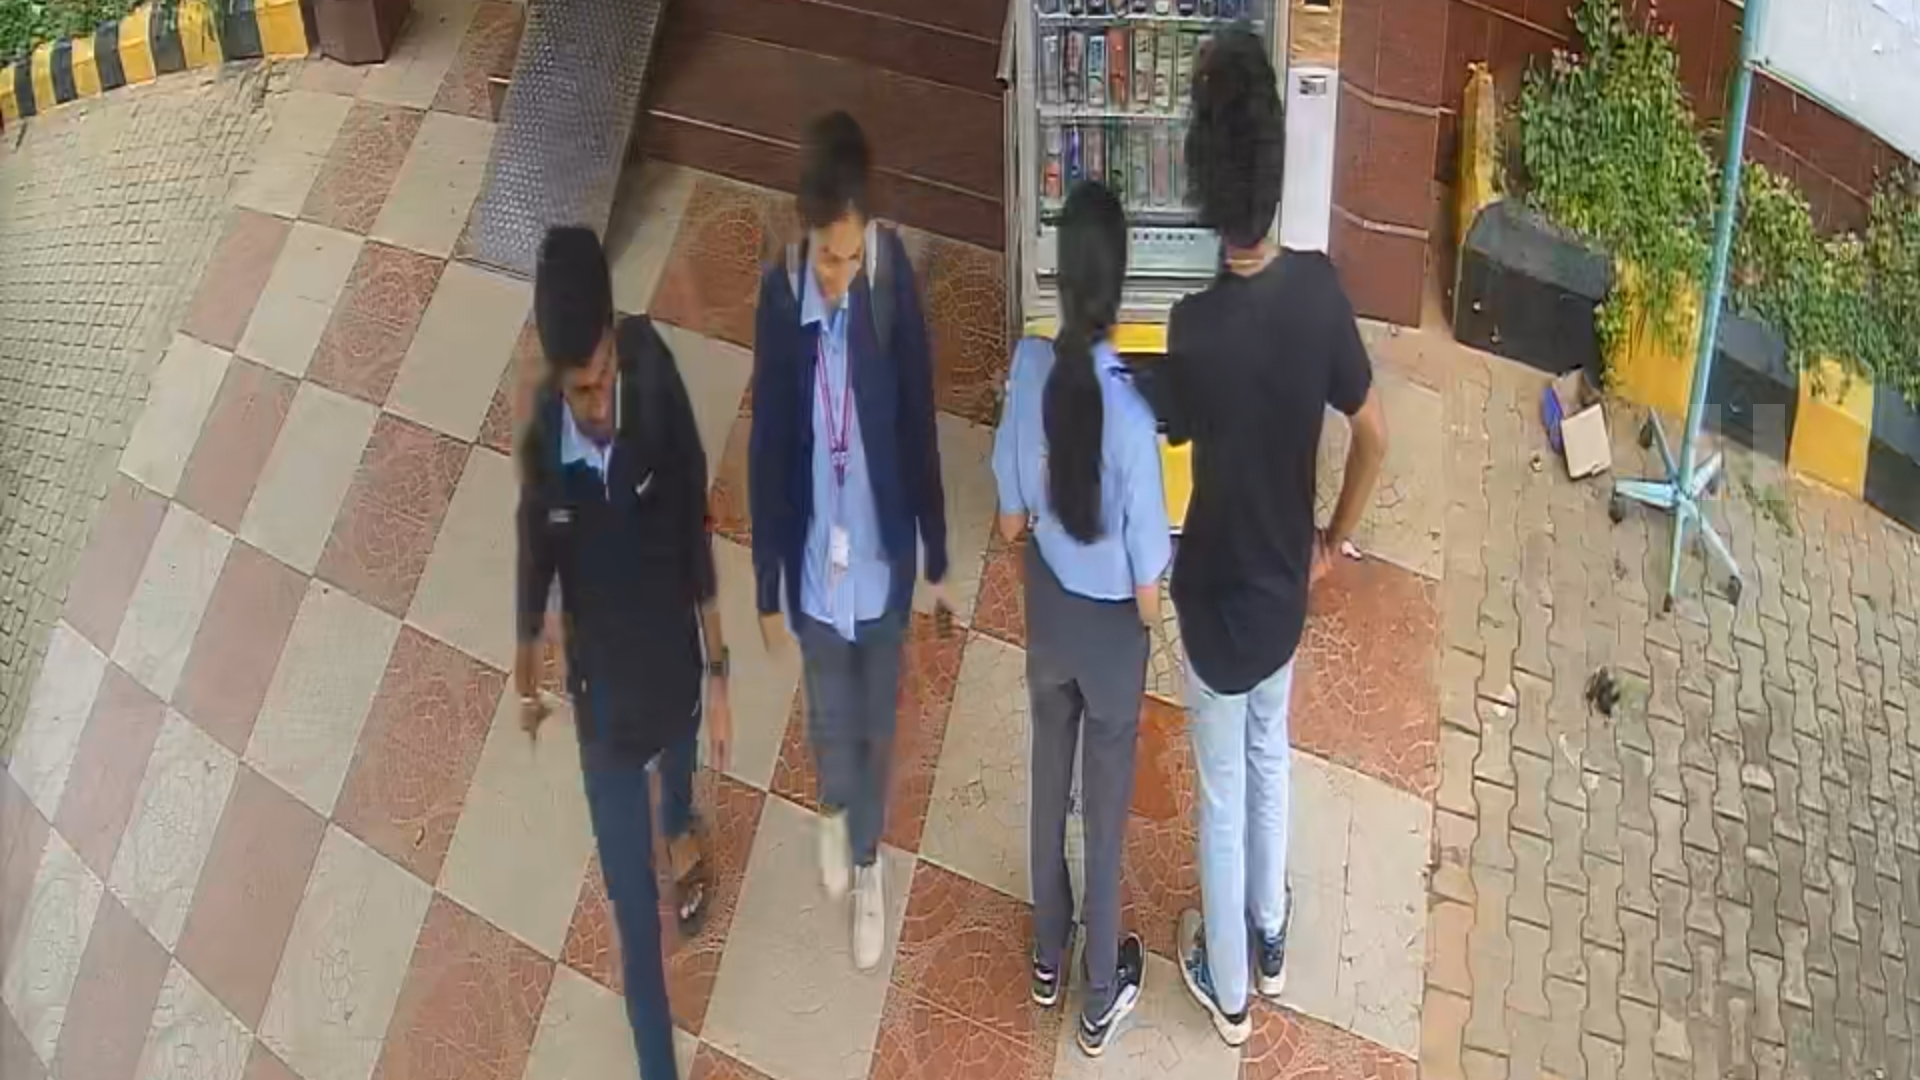intruder: (501, 223, 746, 1080)
not intruder: (757, 127, 943, 977)
